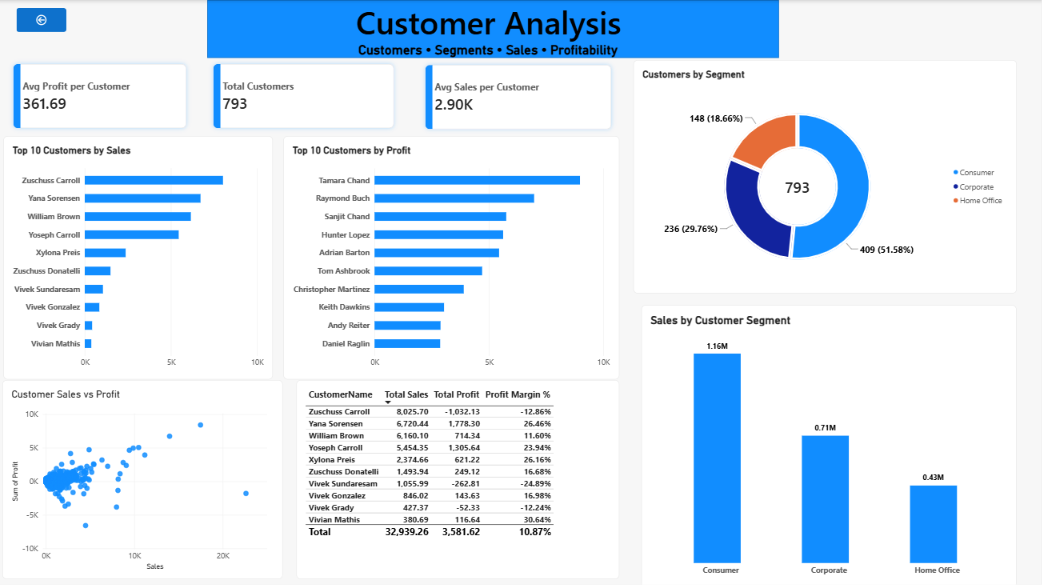

What the dashboard file says about the page in this screenshot:
{"tool":"powerbi","page":{"name":"Customer Analysis","canvas":[1920,1080],"ordinal":1},"visuals":[{"type":"cardVisual","fields":{"Data":["Customers.Total Customers"]},"box":[384.7,106.6,354,140],"z":0},{"type":"cardVisual","fields":{"Data":["Customers.Avg Profit per Customer"]},"box":[16.7,106.6,340,140],"z":1000},{"type":"cardVisual","fields":{"Data":["Customers.Avg Sales per Customer"]},"box":[775.1,108.5,364,140],"z":2000},{"type":"barChart","title":"Top 10 Customers by Sales","fields":{"Category":["Customers.CustomerName"],"Y":["Sum(Orders.Sales)"]},"box":[8.3,250.4,496,448],"z":3000},{"type":"donutChart","title":"Customers by Segment","fields":{"Category":["Customers.Segment"],"Y":["Customers.Total Customers"]},"box":[1168.7,110.6,705.4,429.9],"z":4000},{"type":"clusteredColumnChart","title":"Sales by Customer Segment","fields":{"Category":["Customers.Segment"],"Y":["Sum(Orders.Sales)"]},"box":[1183.3,561.4,690.8,519.7],"z":5000},{"type":"barChart","title":"Top 10 Customers by Profit","fields":{"Category":["Customers.CustomerName"],"Y":["Sum(Orders.Profit)"]},"box":[523.8,250.4,618,448],"z":6000},{"type":"scatterChart","title":"Customer Sales vs Profit","fields":{"Y":["Sum(Orders.Profit)"],"X":["Orders.Sales"]},"box":[8,700,516,366],"z":7000},{"type":"tableEx","fields":{"Values":["Customers.CustomerName","Sum(Orders.Sales)","Sum(Orders.Profit)","Orders.Profit Margin %"]},"box":[548,700,594,366],"z":8000},{"type":"actionButton","box":[33.1,14.7,92,44.2],"z":9000},{"type":"shape","box":[384,0,1051.8,106.4],"z":10000},{"type":"textbox","box":[384,0,1035.1,81.4],"z":11000},{"type":"textbox","box":[548.9,77.2,705.4,56.3],"z":11001}]}

Visuals, with their boxes in screenshot pixels (x1, y1, x2, y2), scaled from the page's 1920x1080 canvas onto the 1042x585 screenshot:
cardVisual - Customers.Total Customers: (left=209, top=58, right=401, bottom=134)
cardVisual - Customers.Avg Profit per Customer: (left=9, top=58, right=194, bottom=134)
cardVisual - Customers.Avg Sales per Customer: (left=421, top=59, right=618, bottom=135)
"Top 10 Customers by Sales" barChart: (left=5, top=136, right=274, bottom=378)
"Customers by Segment" donutChart: (left=634, top=60, right=1017, bottom=293)
"Sales by Customer Segment" clusteredColumnChart: (left=642, top=304, right=1017, bottom=584)
"Top 10 Customers by Profit" barChart: (left=284, top=136, right=620, bottom=378)
"Customer Sales vs Profit" scatterChart: (left=4, top=379, right=284, bottom=577)
tableEx - Customers.CustomerName x Sum(Orders.Sales): (left=297, top=379, right=620, bottom=577)
actionButton: (left=18, top=8, right=68, bottom=32)
shape: (left=208, top=0, right=779, bottom=58)
textbox: (left=208, top=0, right=770, bottom=44)
textbox: (left=298, top=42, right=681, bottom=72)
